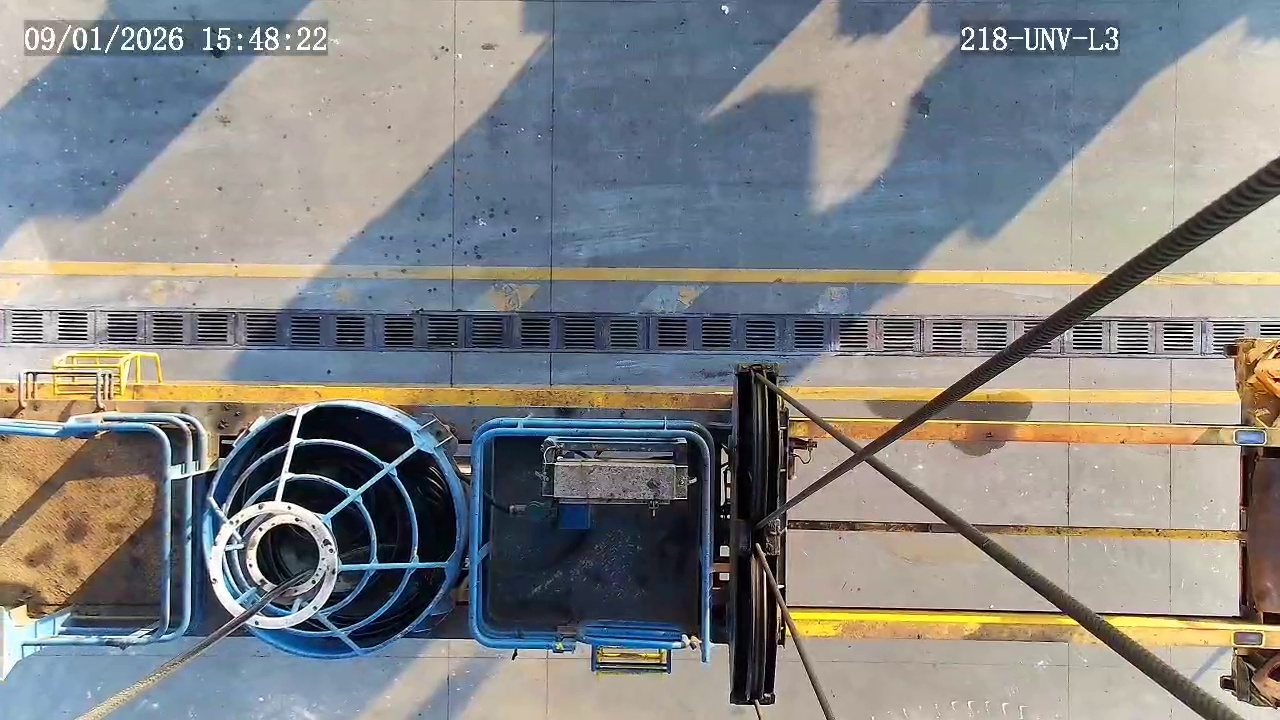right: (208, 501, 336, 628)
